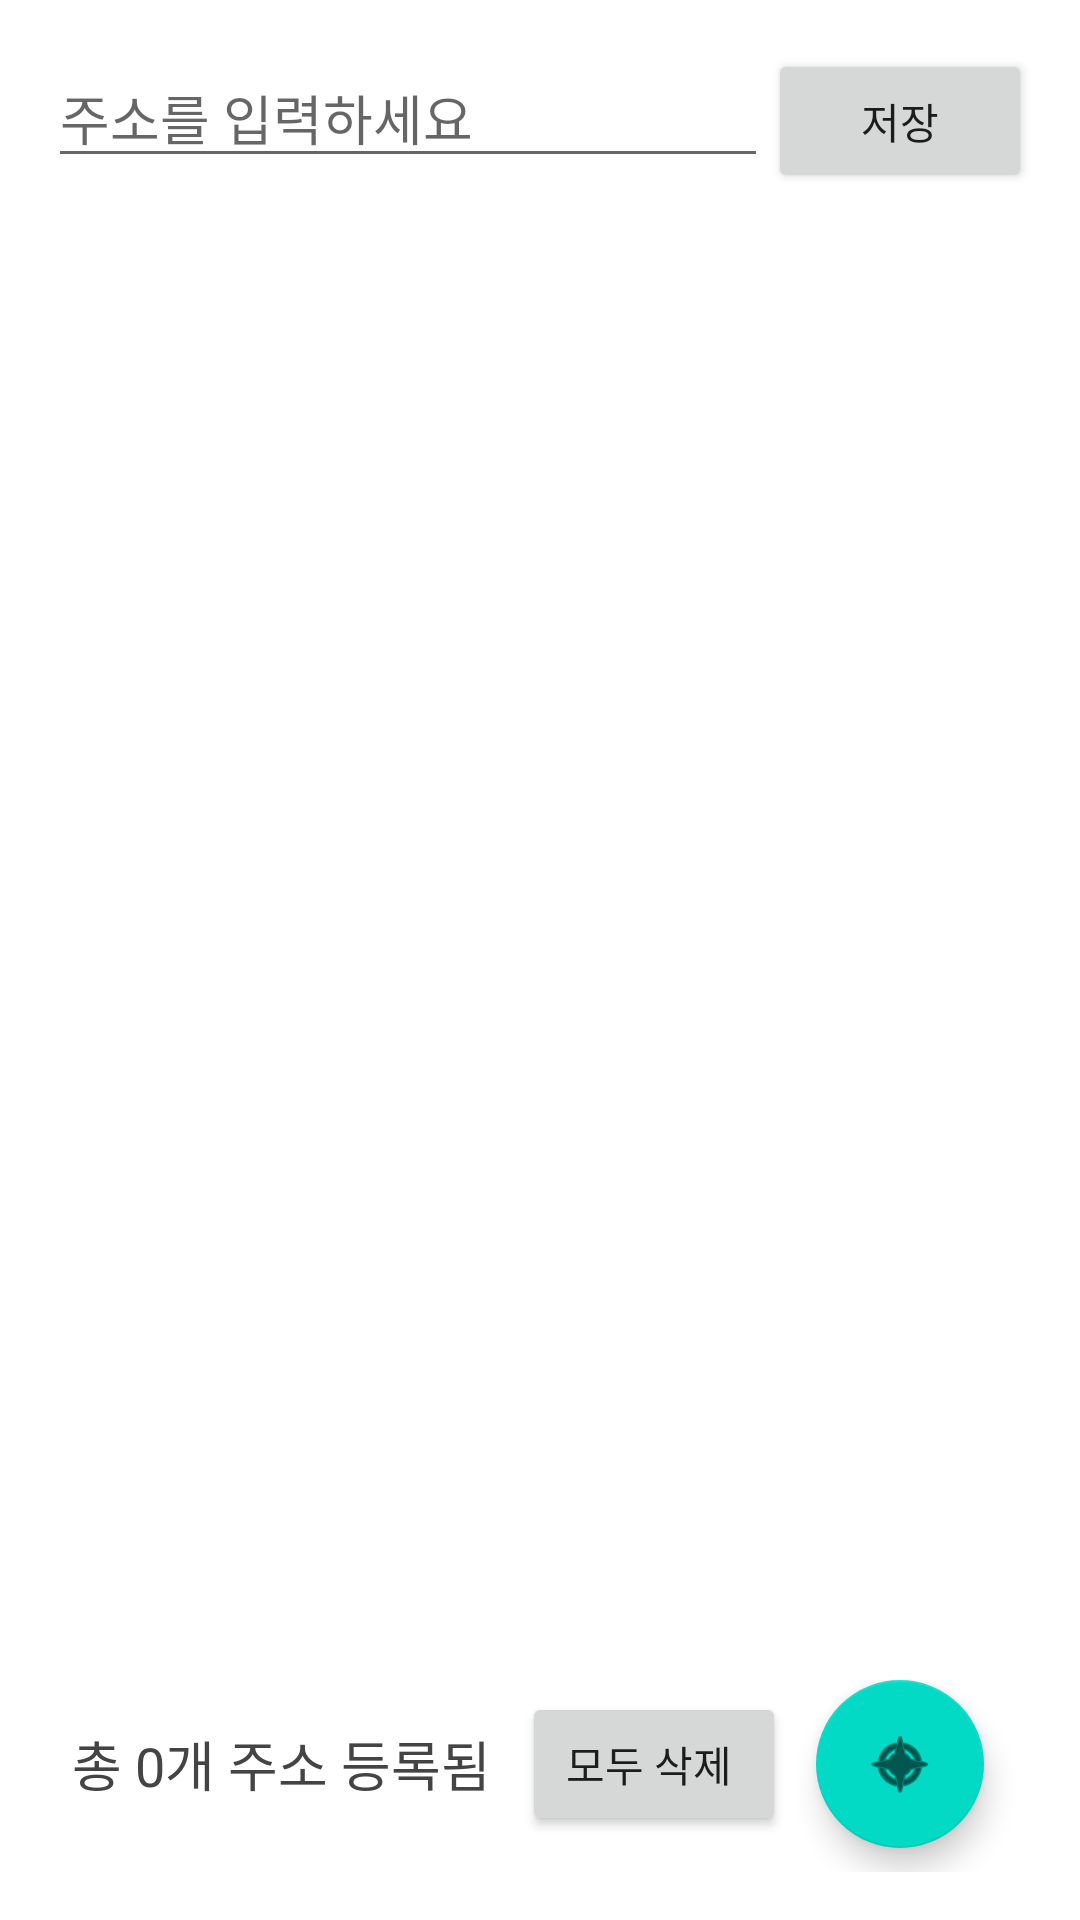

Icon bounding boxes for this 1080px x 1920px phone screenshot, format box(x1, y1, x2, y2):
코스 찾기로 이동: box(816, 1680, 984, 1848)
